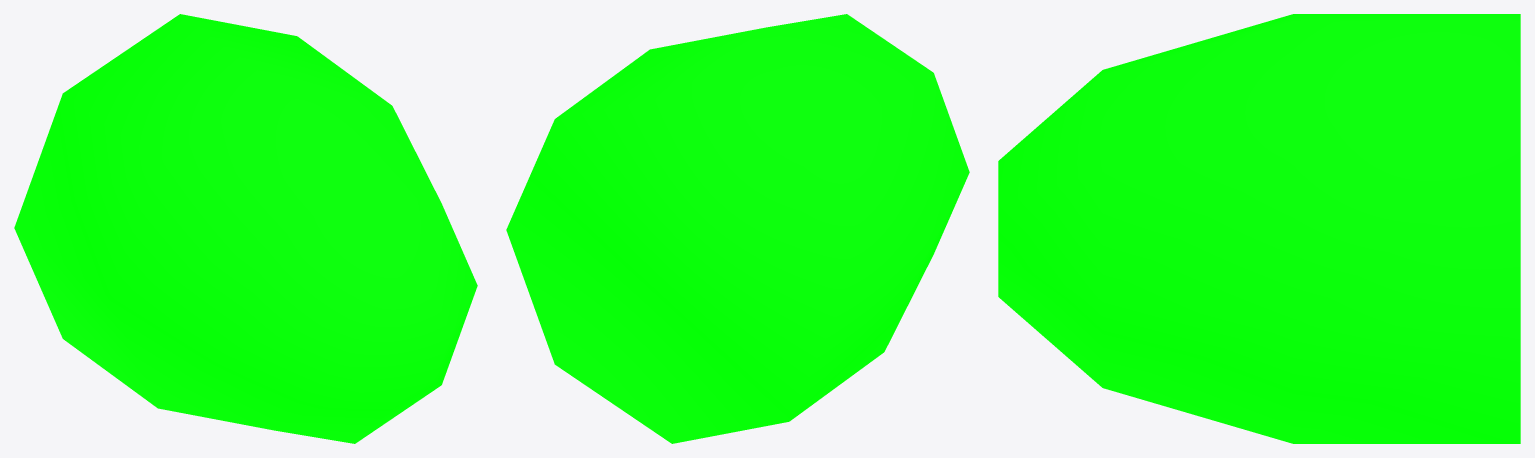
Rendered from litlelightbox.fbx.
3 renders of one model, left to right at view 1: azimuth 30°, elevation 25°; view 2: azimuth 150°, elevation 25°; view 3: azimuth 270°, elevation 25°, orthographic. The views are drawn at different scales.
Visible parts, largest first — view 1: Lightred; view 2: Lightred; view 3: Lightred.
Boxes of the visible parts, x1,y1,x2,y2 form: Lightred: [14, 14, 477, 443]; Lightred: [506, 14, 969, 443]; Lightred: [998, 14, 1520, 443].
Size of the model in its own units: 1.64 by 1.64 by 1.87.
